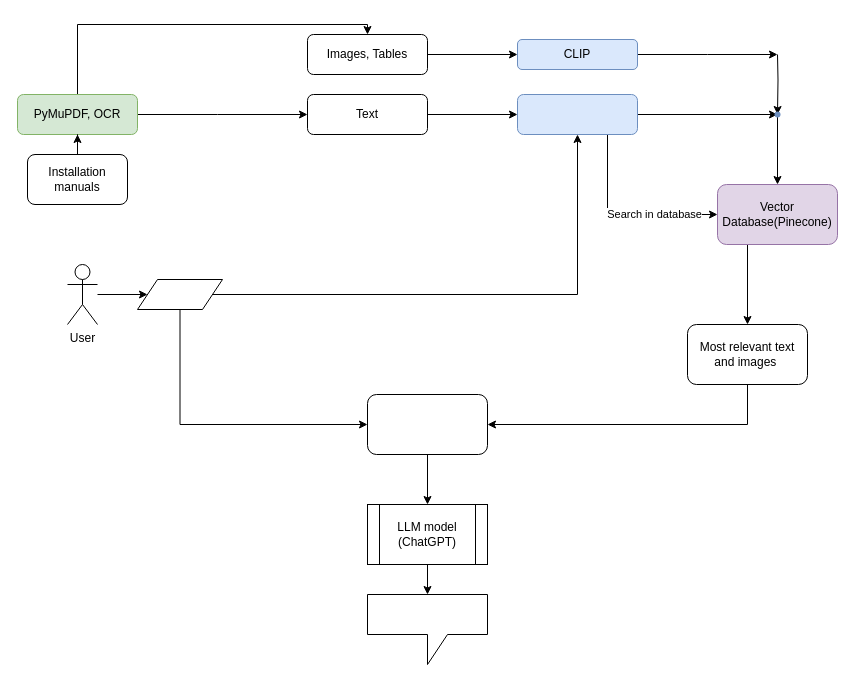
Image size: 855x682. Some labels were removed from this diagram. Each missing label, with the centre of its shape:
OpenAI Embeddings: the point at 577,114
query + retrieval info: the point at 427,424
query......: the point at 179,294
response: the point at 427,629
